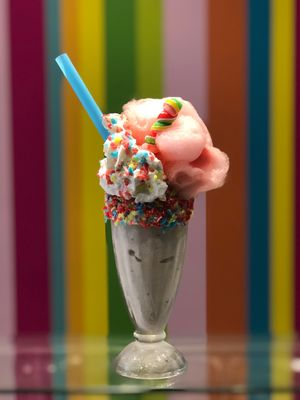soup: (108, 222, 189, 383)
